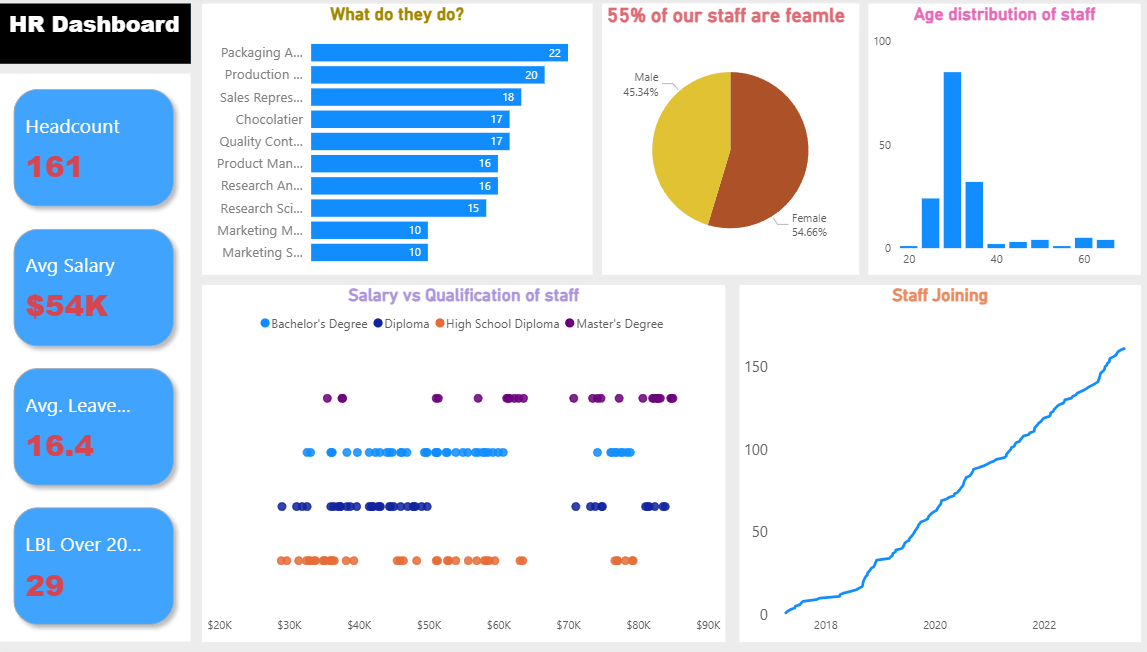

This screenshot's page, from the dashboard's own definition file:
{"tool":"powerbi","page":{"name":"HR Dshboard","canvas":[1280,720],"ordinal":10},"visuals":[{"type":"cardVisual","fields":{"Data":["Staff.Headcount","Staff.Avg Salary","Staff.Avg. Leave Balance","Staff.LBL Over 20 days"]},"box":[12.8,86.9,211,622.9],"z":0},{"type":"clusteredBarChart","title":"What do they do?","fields":{"Category":["Staff.Job Title"],"Y":["Staff.Headcount"]},"box":[236.6,10,429,297.9],"z":1000},{"type":"pieChart","title":"55% of our staff are feamle","fields":{"Category":["Staff.Gender"],"Y":["Staff.Headcount"]},"box":[675.6,10,282.2,297.9],"z":2000},{"type":"columnChart","title":"Age distribution of staff","fields":{"Y":["Staff.Headcount"],"Category":["Staff.Age (bins)"]},"box":[967.8,10,299.3,297.9],"z":3000},{"type":"scatterChart","title":"Salary vs Qualification of staff","fields":{"X":["Staff.Salary"],"Y":["Qual.Educational ID"],"Series":["Qual.Qualifaction"]},"box":[236.6,317.9,574.4,392],"z":4000},{"type":"lineChart","title":"Staff Joining ","fields":{"Y":["Staff.Cumalative Headcount"],"Category":["Staff.Date of Join"]},"box":[826.7,317.9,440.4,392],"z":5000},{"type":"shape","box":[12.8,10,211,65.6],"z":6000},{"type":"textbox","box":[12.8,10,211,65.6],"z":7000}]}

Visuals, with their boxes in screenshot pixels (x1, y1, x2, y2), scaled from the page's 1280x720 canvas onto the 1147x652 screenshot:
cardVisual - Staff.Headcount x Staff.Avg Salary: 11/79/201/643
"What do they do?" clusteredBarChart: 212/9/596/279
"55% of our staff are feamle" pieChart: 605/9/858/279
"Age distribution of staff" columnChart: 867/9/1135/279
"Salary vs Qualification of staff" scatterChart: 212/288/727/643
"Staff Joining " lineChart: 741/288/1135/643
shape: 11/9/201/68
textbox: 11/9/201/68
